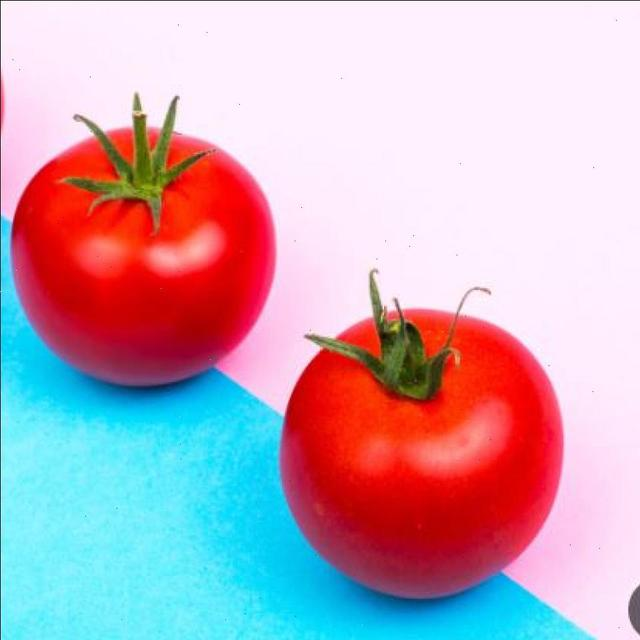Healthy Fruit: (93, 168, 275, 297)
